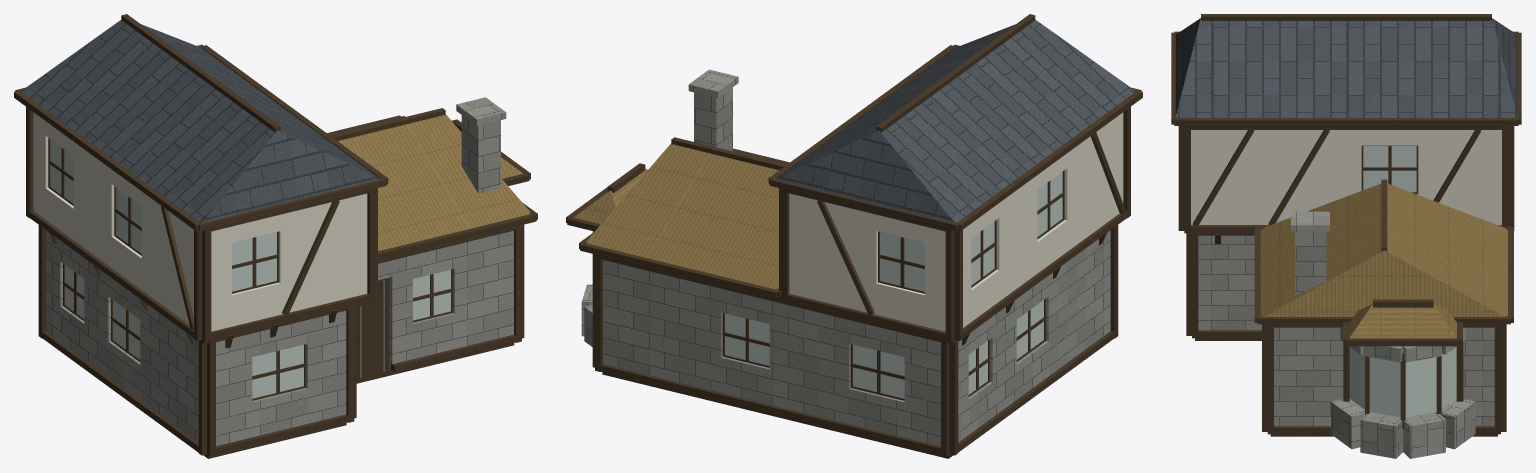
Rendered from lodge.glb.
3 renders of one model, left to right at view 1: azimuth 30°, elevation 25°; view 2: azimuth 150°, elevation 25°; view 3: azimuth 270°, elevation 25°, orthographic. The views are drawn at different scales.
Parts seen in each view (by area): view 1: Lodge_GroundShell_Light_gray_limestone, Lodge_Roof_Blue_gray_slate, Lodge_UpperShell_Oat_plaster, Lodge_Roof_Muted_wheat_thatch, Lodge_GroundShell_Warm_oak, Lodge_UpperShell_Warm_oak, Lodge_Roof_Warm_oak, Lodge_Glazing_Muted_old_glass, Lodge_Chimney_Light_gray_limestone, Lodge_Door_Warm_oak, Lodge_GroundFloor_Warm_oak; view 2: Lodge_GroundShell_Light_gray_limestone, Lodge_Roof_Blue_gray_slate, Lodge_UpperShell_Oat_plaster, Lodge_Roof_Muted_wheat_thatch, Lodge_GroundShell_Warm_oak, Lodge_UpperShell_Warm_oak, Lodge_Roof_Warm_oak, Lodge_Glazing_Muted_old_glass, Lodge_Chimney_Light_gray_limestone, Lodge_GroundFloor_Warm_oak; view 3: Lodge_Roof_Blue_gray_slate, Lodge_Roof_Muted_wheat_thatch, Lodge_GroundShell_Light_gray_limestone, Lodge_UpperShell_Oat_plaster, Lodge_Roof_Warm_oak, Lodge_GroundShell_Warm_oak, Lodge_Glazing_Muted_old_glass, Lodge_UpperShell_Warm_oak, Lodge_Chimney_Light_gray_limestone, Lodge_GroundFloor_Warm_oak.
Boxes of the visible parts, box(x1,y1,x2,y2) form: Lodge_GroundShell_Light_gray_limestone: box(46, 230, 513, 445); Lodge_Roof_Blue_gray_slate: box(22, 20, 379, 222); Lodge_UpperShell_Oat_plaster: box(33, 112, 367, 331); Lodge_Roof_Muted_wheat_thatch: box(338, 114, 530, 251); Lodge_GroundShell_Warm_oak: box(38, 224, 524, 456); Lodge_UpperShell_Warm_oak: box(26, 107, 377, 341); Lodge_Roof_Warm_oak: box(14, 14, 537, 259); Lodge_Glazing_Muted_old_glass: box(50, 139, 450, 398); Lodge_Chimney_Light_gray_limestone: box(456, 97, 506, 193); Lodge_Door_Warm_oak: box(356, 278, 388, 377); Lodge_GroundFloor_Warm_oak: box(204, 343, 514, 458); Lodge_GroundShell_Light_gray_limestone: box(581, 230, 1110, 445); Lodge_Roof_Blue_gray_slate: box(777, 19, 1134, 222); Lodge_UpperShell_Oat_plaster: box(789, 112, 1123, 331); Lodge_Roof_Muted_wheat_thatch: box(573, 143, 778, 289); Lodge_GroundShell_Warm_oak: box(592, 225, 1118, 456); Lodge_UpperShell_Warm_oak: box(779, 107, 1130, 341); Lodge_Roof_Warm_oak: box(566, 14, 1142, 298); Lodge_Glazing_Muted_old_glass: box(725, 171, 1062, 398); Lodge_Chimney_Light_gray_limestone: box(688, 69, 738, 151); Lodge_GroundFloor_Warm_oak: box(602, 372, 952, 458); Lodge_Roof_Blue_gray_slate: box(1175, 18, 1517, 117); Lodge_Roof_Muted_wheat_thatch: box(1260, 183, 1507, 338); Lodge_GroundShell_Light_gray_limestone: box(1198, 235, 1494, 458); Lodge_UpperShell_Oat_plaster: box(1191, 130, 1501, 224); Lodge_Roof_Warm_oak: box(1171, 14, 1521, 346); Lodge_GroundShell_Warm_oak: box(1186, 233, 1506, 434); Lodge_Glazing_Muted_old_glass: box(1349, 146, 1456, 417); Lodge_UpperShell_Warm_oak: box(1178, 126, 1514, 233); Lodge_Chimney_Light_gray_limestone: box(1291, 211, 1329, 295); Lodge_GroundFloor_Warm_oak: box(1195, 338, 1497, 452).
Size of the model in its own units: 12.47 by 8.61 by 9.26.
Materials: 20 (4 with a texture image).
